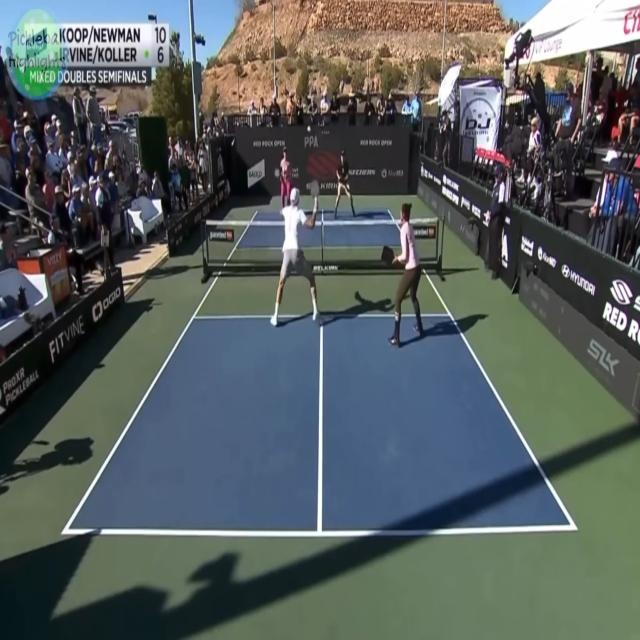ball: (306, 122, 312, 134)
